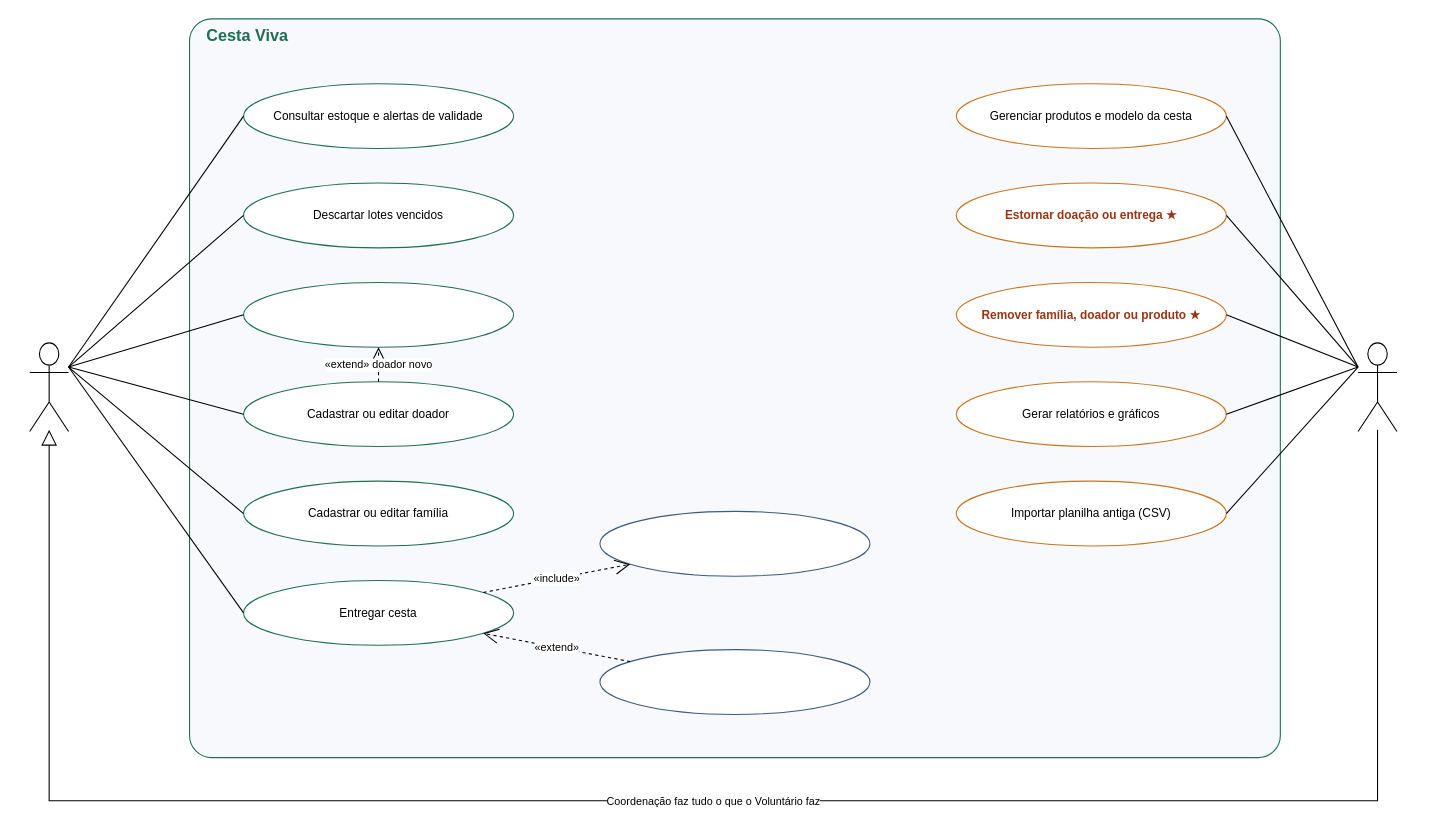
Some shapes in this 1436 by 835 pixel diagram are drawn without their labels. Each missing label, with the box of its shape:
Avisar: cesta há menos de 30 dias: (599, 649, 870, 714)
Coordenação: (1357, 342, 1397, 431)
Dar baixa nos lotes pela regra FEFO: (599, 510, 870, 576)
Registrar doação: (242, 281, 514, 347)
Voluntário: (29, 342, 69, 431)
